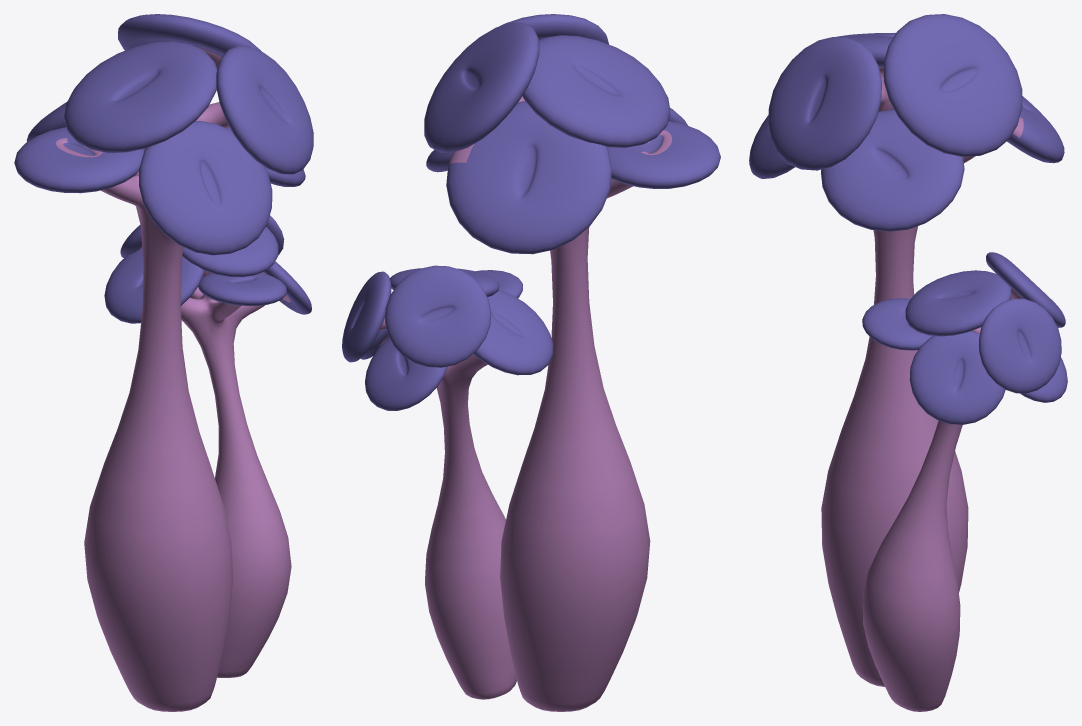
Rendered from Vase mushroom.fbx.
The picture shows the model from 3 angles, left to right: view 1: azimuth 30°, elevation 25°; view 2: azimuth 150°, elevation 25°; view 3: azimuth 270°, elevation 25°; orthographic projection.
Visible parts, largest first — view 1: Cylinder, Cylinder.001; view 2: Cylinder, Cylinder.001; view 3: Cylinder, Cylinder.001.
Boxes of the visible parts, box(x1,y1,x2,y2) form: Cylinder: box(14, 14, 313, 711); Cylinder.001: box(104, 215, 311, 677); Cylinder: box(424, 14, 720, 711); Cylinder.001: box(342, 265, 553, 699); Cylinder: box(749, 14, 1064, 686); Cylinder.001: box(862, 252, 1067, 711).
Size of the model in its own units: 93.04 by 191 by 82.95.
